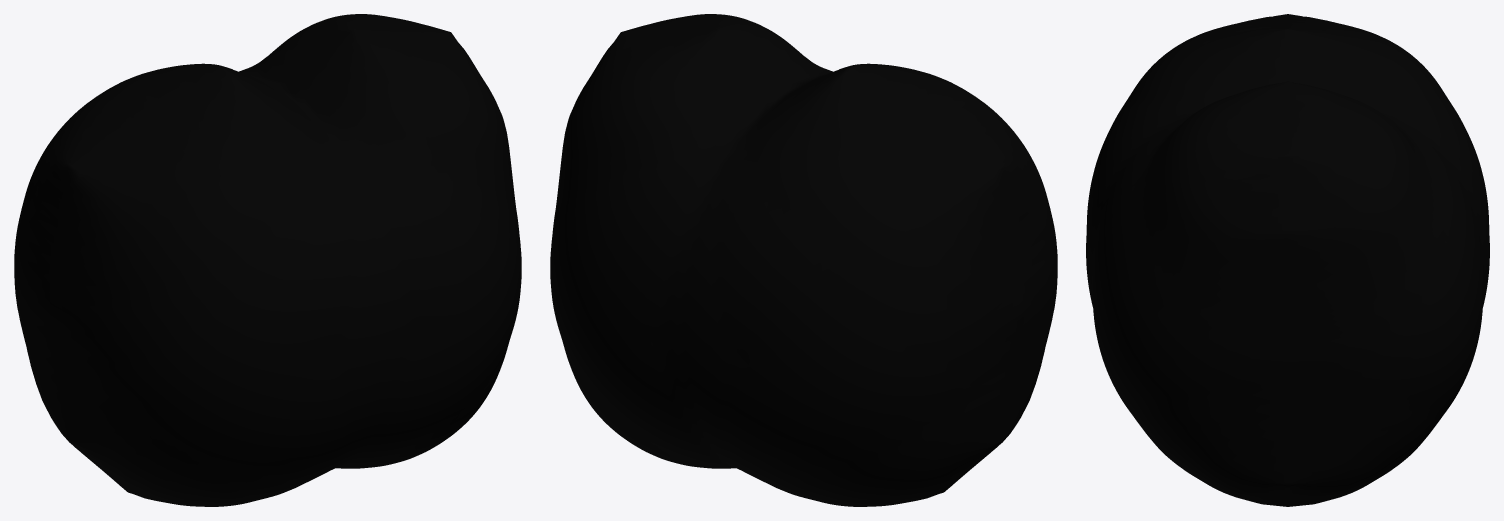
The model's file is apple.fbx.
3 renders of one model, left to right at view 1: azimuth 30°, elevation 25°; view 2: azimuth 150°, elevation 25°; view 3: azimuth 270°, elevation 25°, orthographic. The views are drawn at different scales.
Parts seen in each view (by area): view 1: root; view 2: root; view 3: root.
Part boxes in pixels (x1,y1,x2,y2): root: (14,14,521,506); root: (550,14,1057,506); root: (1086,14,1489,506).
Bounding box in the file's own units: 0.3744 × 0.345 × 0.3115.
Materials: 1 (1 with a texture image).
